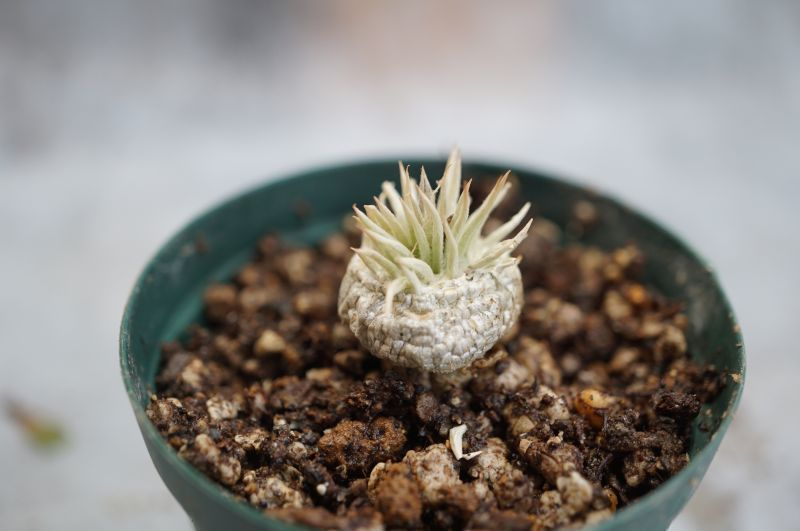Pachypodium brevicaule: (331, 153, 553, 378)
